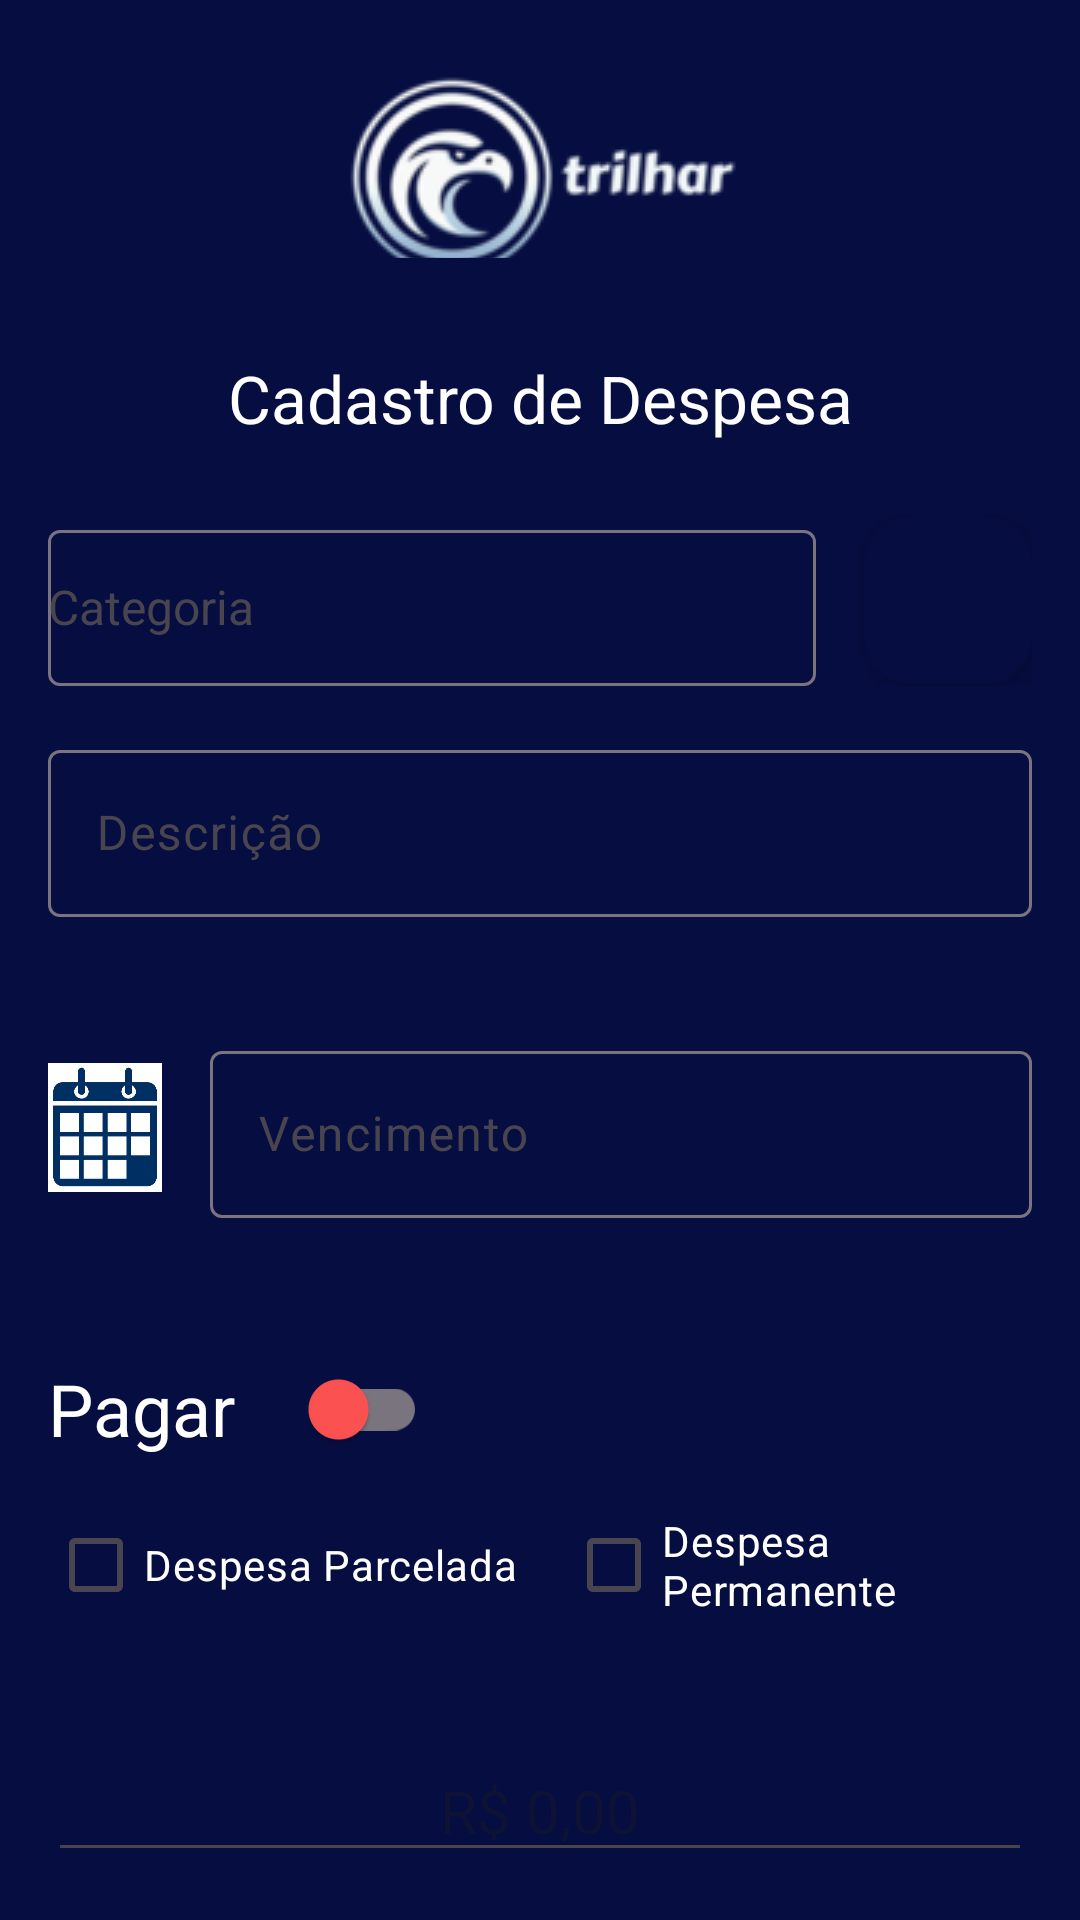

Locate icon controls on the screen. Image size 1080px×1920px, boxes as bbox(x1, y1, x2, y2).
calendar: bbox(48, 1063, 162, 1192)
